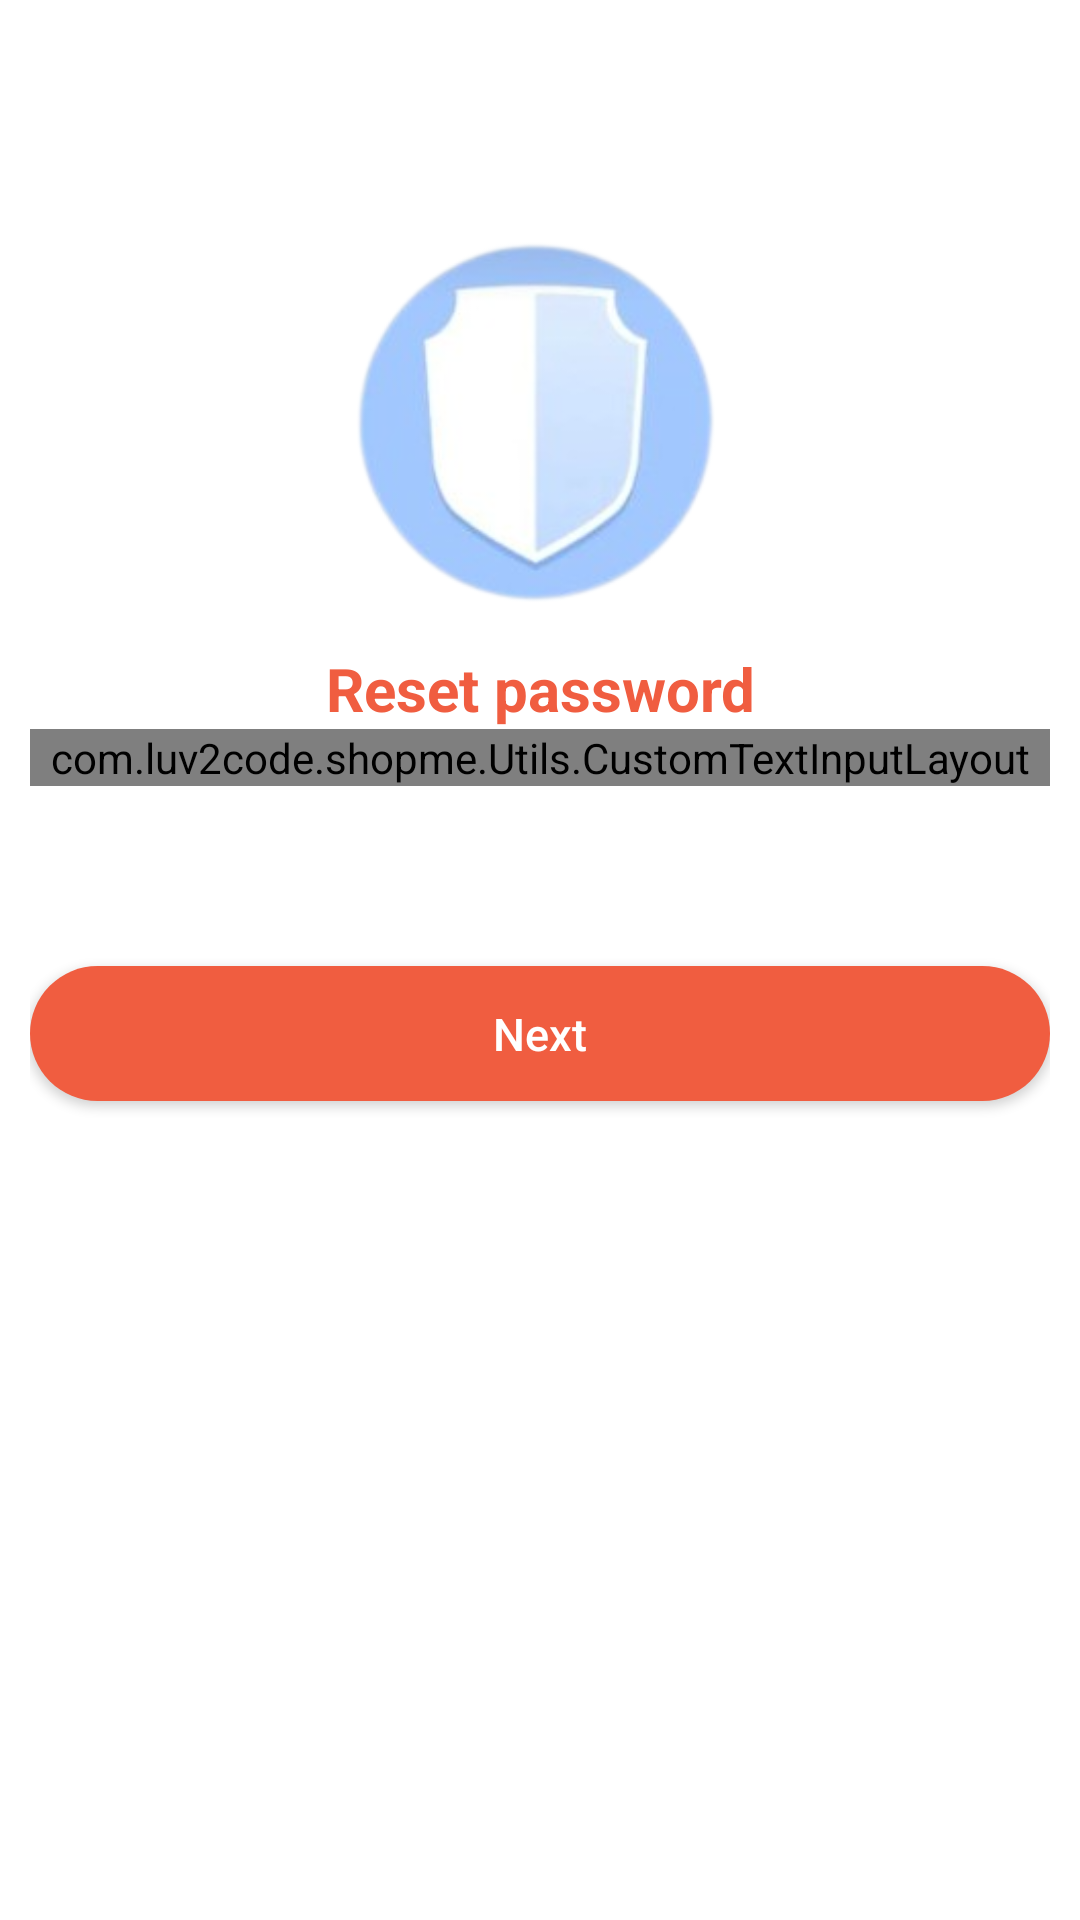

Locate icon controls on the screen. Image size 1080 x 1920, boxes as (x1, y1, x2, y2).
secure: (359, 245, 712, 599)
